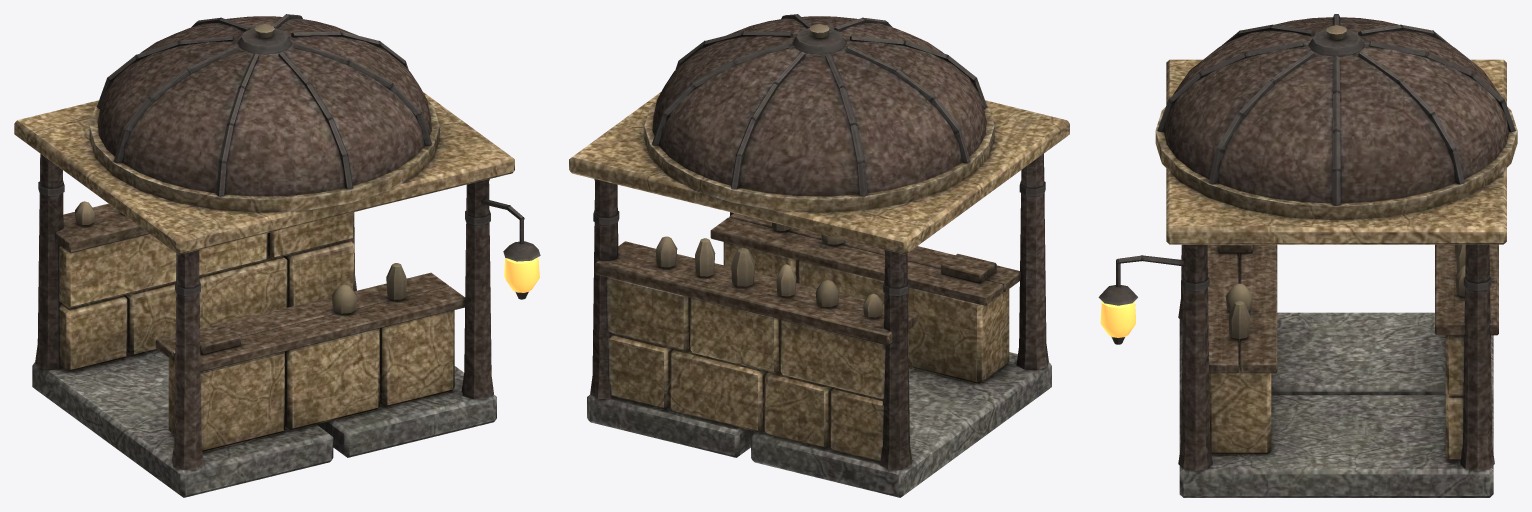
The model's file is lampwright_stall_dome.glb.
The picture shows the model from 3 angles, left to right: view 1: azimuth 30°, elevation 25°; view 2: azimuth 150°, elevation 25°; view 3: azimuth 270°, elevation 25°; orthographic projection. The views are drawn at different scales.
Parts seen in each view (by area): view 1: lampwright_stall_dome_body, lampwright_stall_dome_lamp; view 2: lampwright_stall_dome_body; view 3: lampwright_stall_dome_body, lampwright_stall_dome_lamp.
Boxes of the visible parts, x1,y1,x2,y2 form: lampwright_stall_dome_body: (14, 14, 540, 497); lampwright_stall_dome_lamp: (504, 257, 539, 292); lampwright_stall_dome_body: (569, 14, 1069, 497); lampwright_stall_dome_body: (1098, 14, 1517, 497); lampwright_stall_dome_lamp: (1100, 301, 1135, 337).
Bounding box in the file's own units: 3.04 × 3.27 × 3.15.
Materials: 2 (1 with a texture image).
